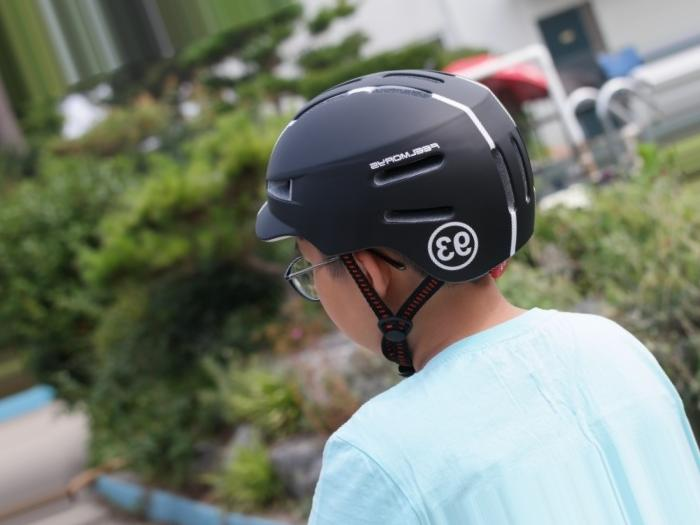with helmet: (253, 69, 539, 355)
